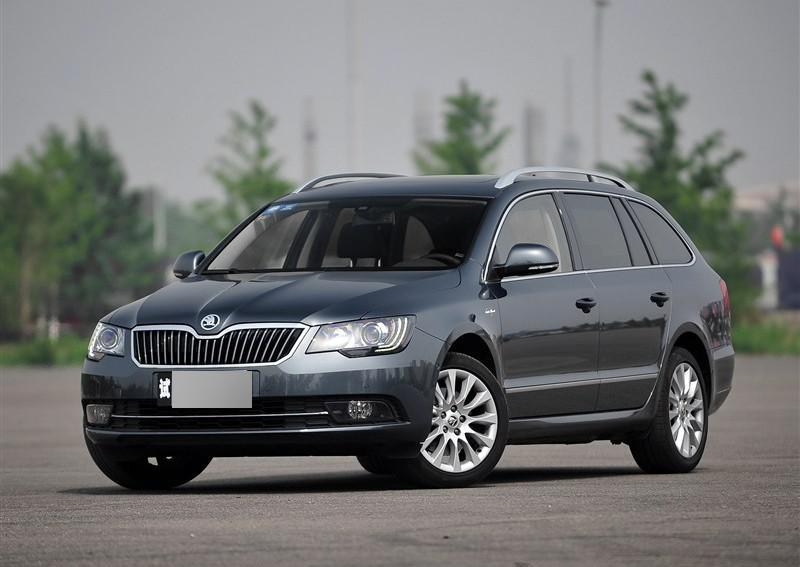Wagon: (77, 164, 736, 487)
